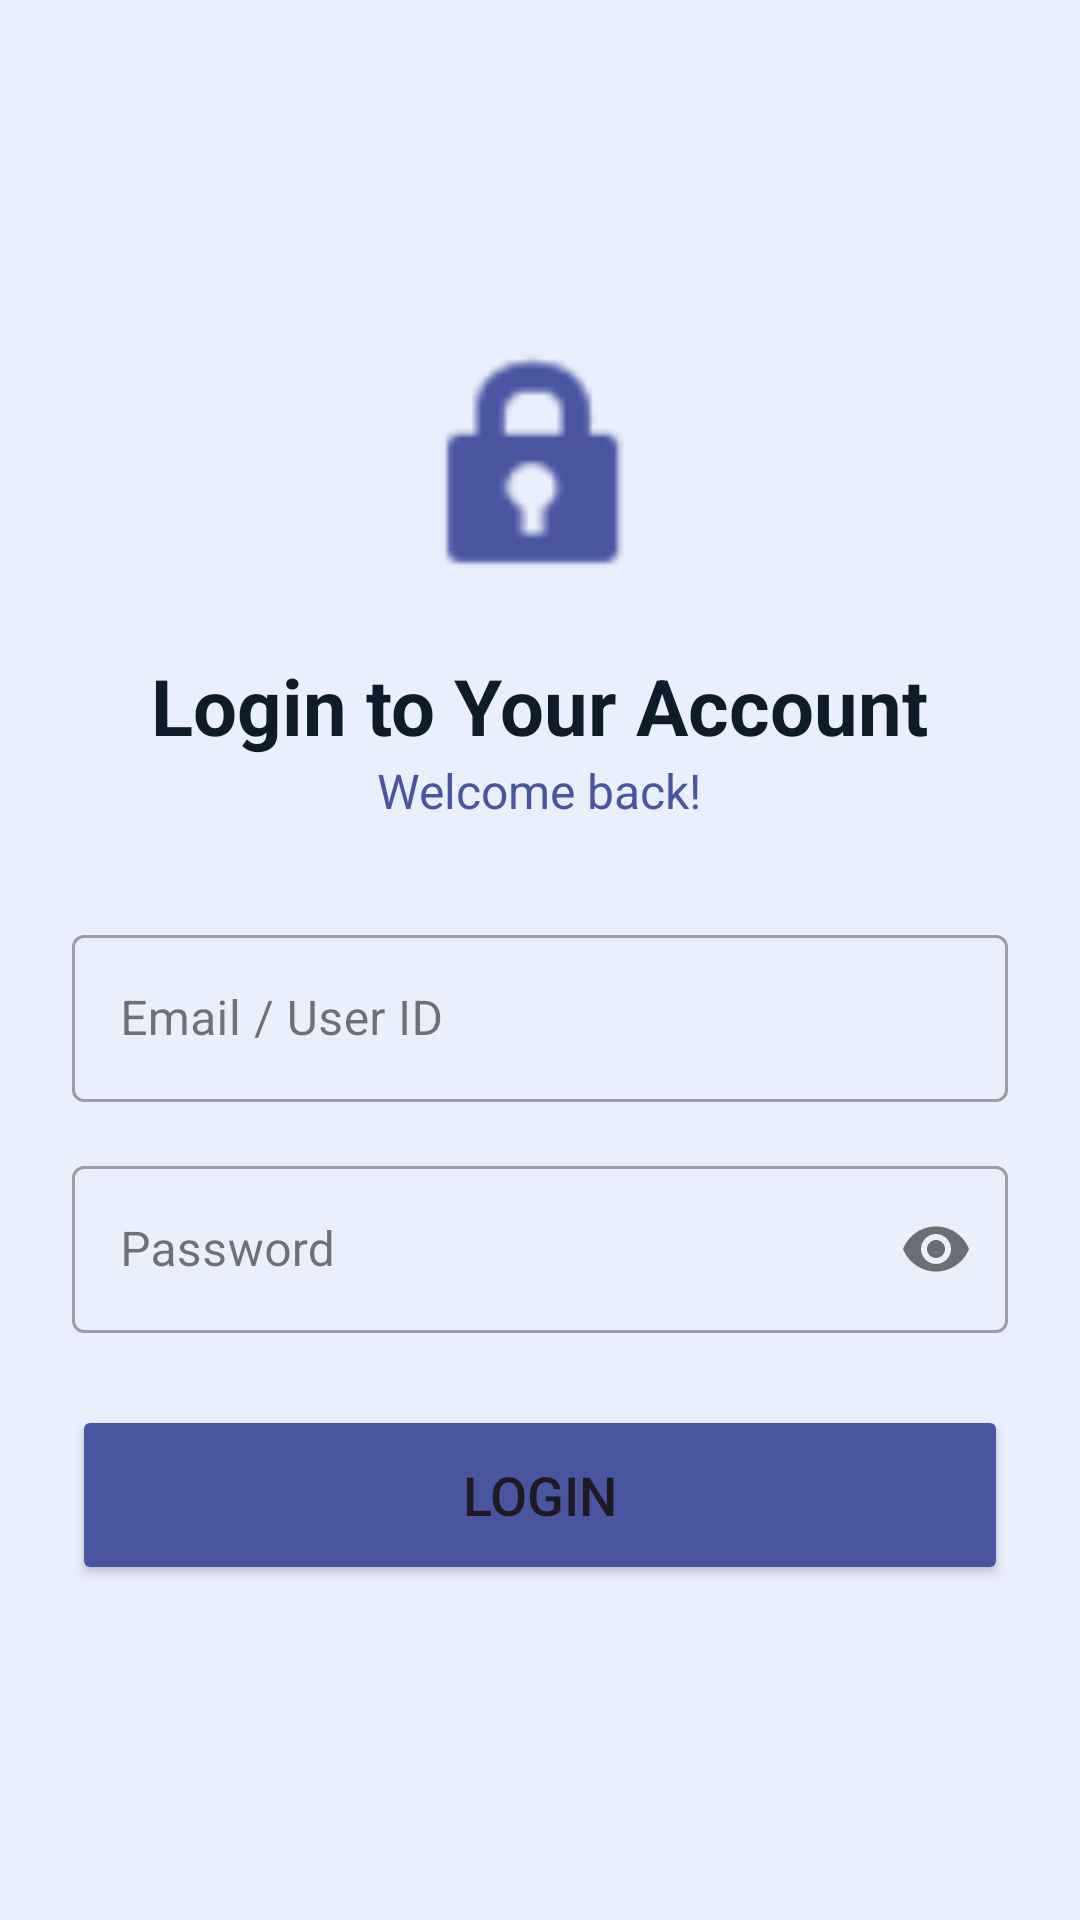

Named icons in this screenshot (1080 × 1920) and their centers, [x,y]:
lock idle: [533,462]
